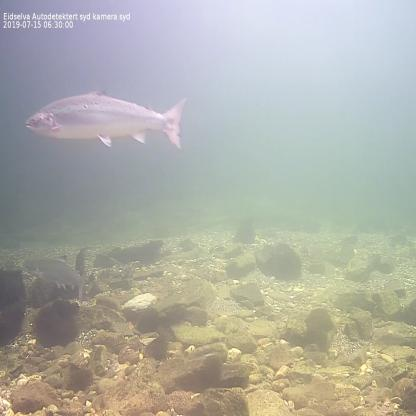salmon: (22, 83, 188, 152), (22, 251, 88, 301)
